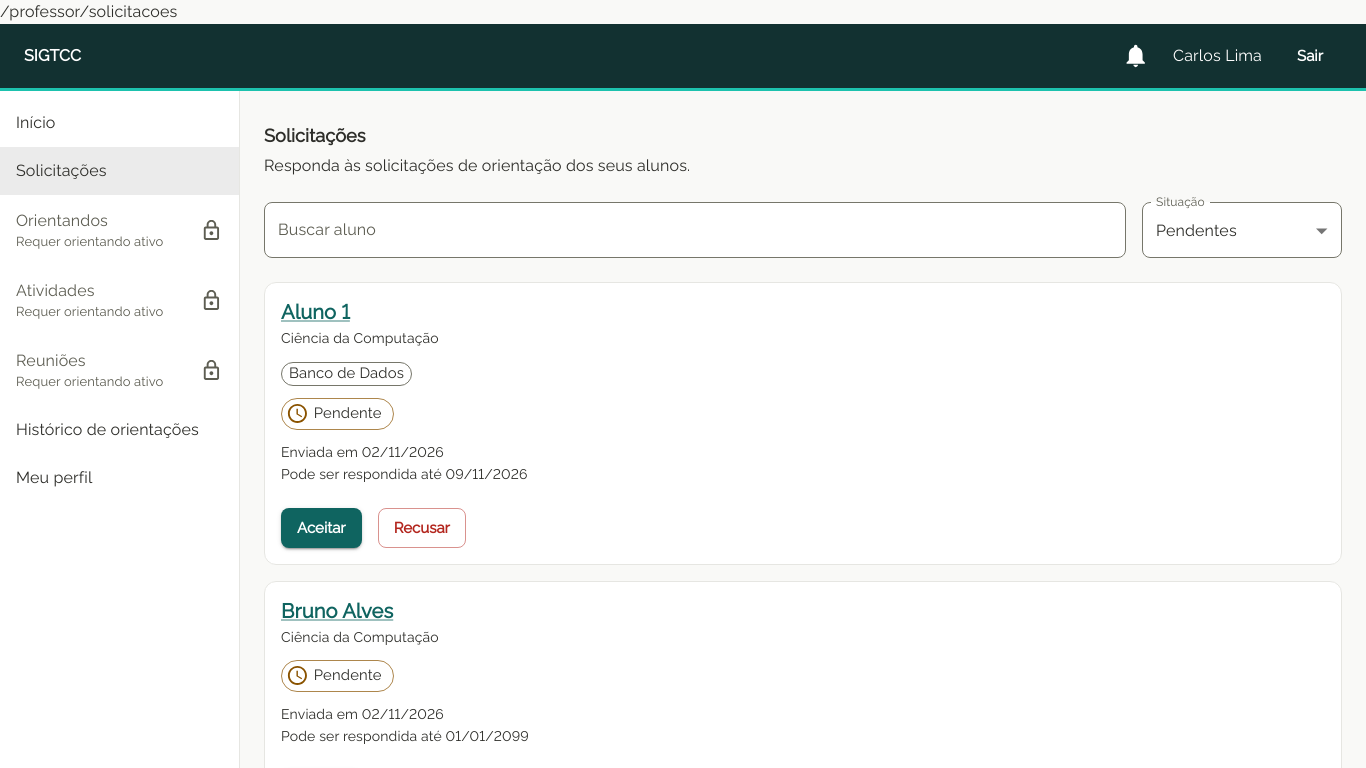
Scenario: Solicitações do professor: o diálogo aberto quando a solicitação muda › em Pendentes, a que passou do prazo e saiu da lista também recebe o aviso do prazo
Expected: the element "Aluno 1" is shown, [264,282,1342,565]
Click the button "Recusar": (422, 528) [378,508,466,548]
Wait 30000 ms
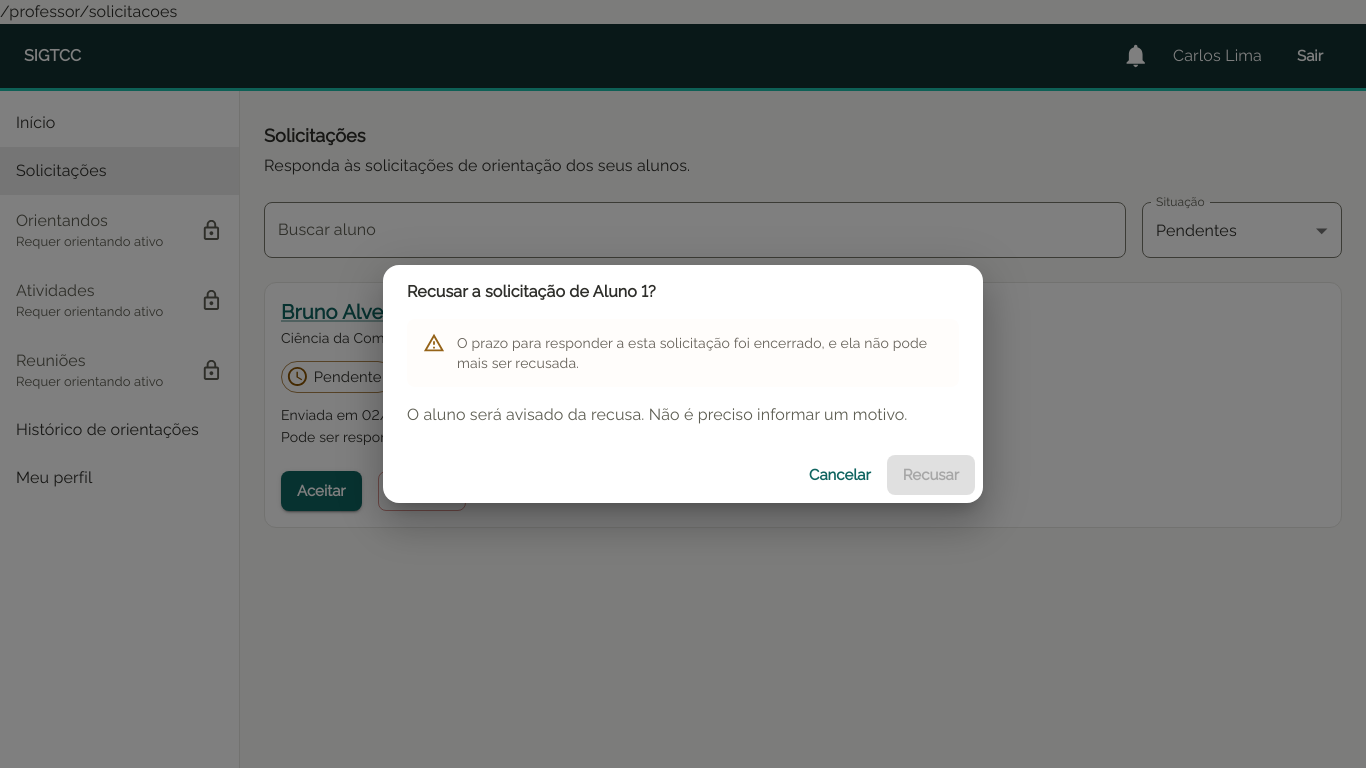
Result: the text "O prazo para responder a esta solicitação foi encerrado, e ela não pode mais ser recusada." is shown at [457,335,927,371]
Result: the button "Recusar" is disabled at [887,456,975,496]
